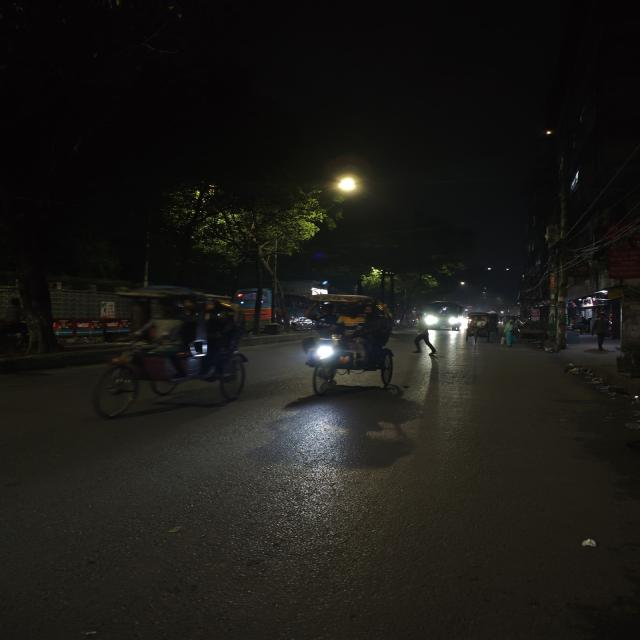bus: (428, 298, 463, 331)
pedestrian: (409, 307, 437, 368), (592, 312, 612, 348), (499, 317, 521, 349)
rickshaw: (80, 273, 254, 427), (280, 284, 403, 407), (466, 311, 488, 347)
